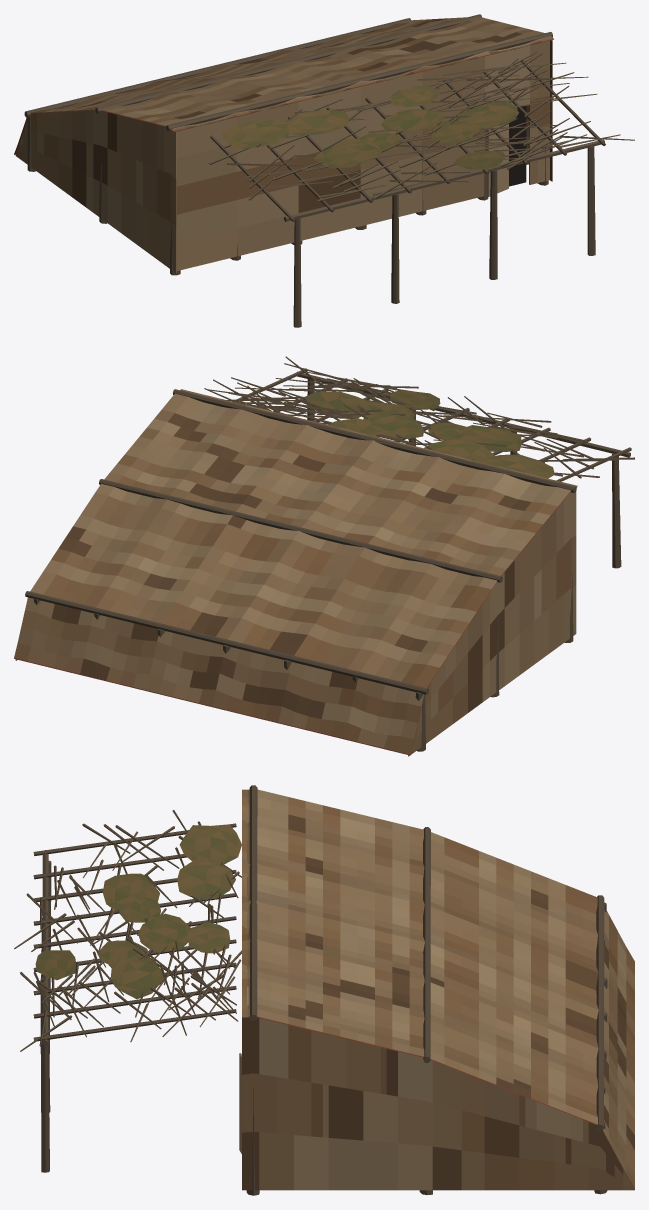
File: toldo_lonko.glb
3 renders of one model, top to bottom at view 1: azimuth 30°, elevation 25°; view 2: azimuth 150°, elevation 25°; view 3: azimuth 270°, elevation 25°, orthographic. The views are drawn at different scales.
Parts seen in each view (by area): view 1: ToldoLonko; view 2: ToldoLonko; view 3: ToldoLonko.
Part boxes in pixels (x1,y1,x2,y2): ToldoLonko: (14,14,634,327); ToldoLonko: (14,356,634,756); ToldoLonko: (14,785,634,1195).
Size of what is drawn, in the model's own units: 9.4 by 3.5 by 10.75.
